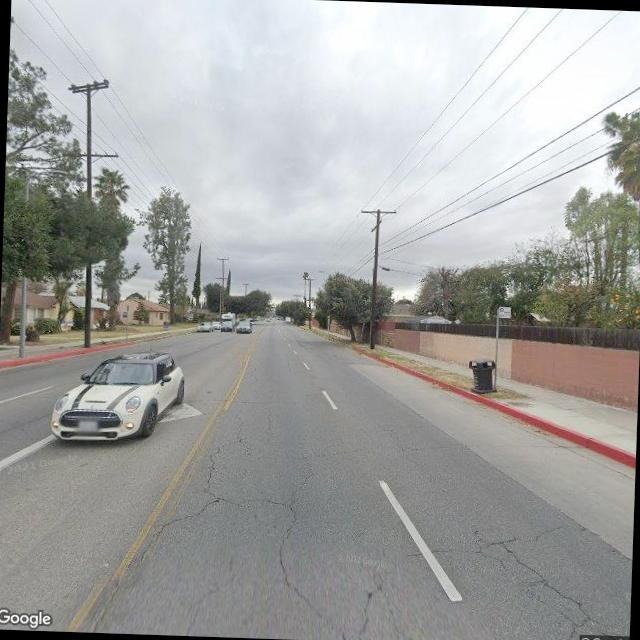crack: (148, 399, 354, 637), (442, 512, 588, 620)
